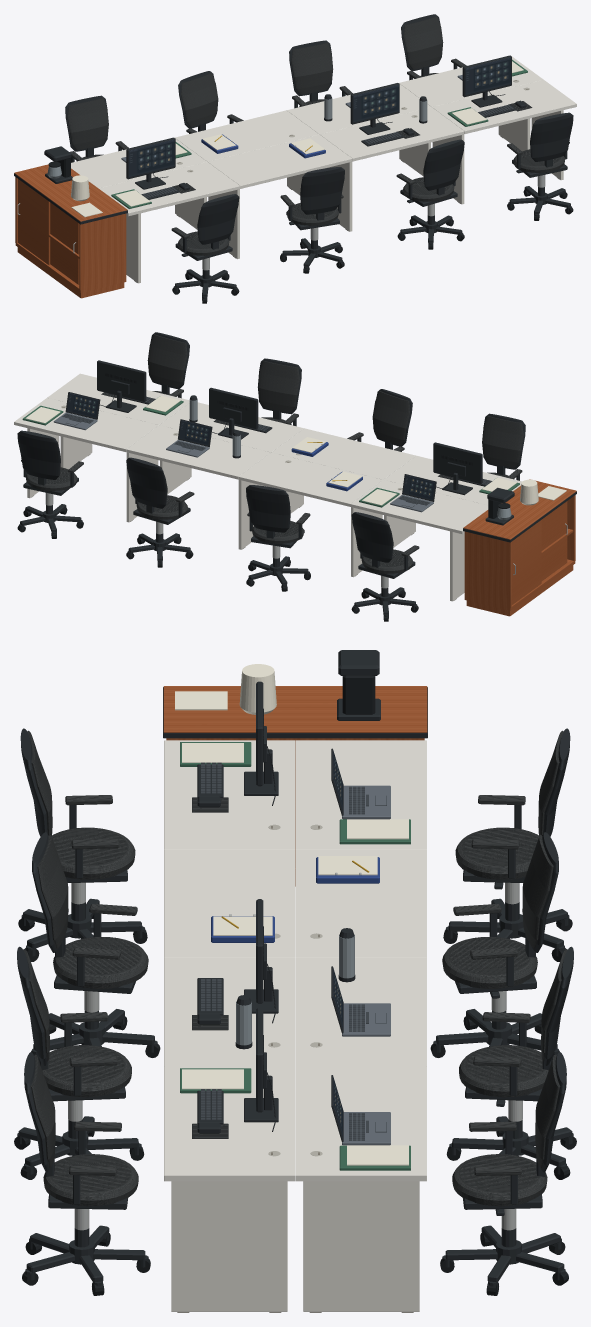
Rendered from desk_cluster_001.glb.
3 renders of one model, top to bottom at view 1: azimuth 30°, elevation 25°; view 2: azimuth 150°, elevation 25°; view 3: azimuth 270°, elevation 25°, orthographic. The views are drawn at different scales.
Parts seen in each view (by area): view 1: DESK_TOP, SIDEBOARD_BODY, DESK_FRAME, CHAIR_07, CHAIR_03, CHAIR_01, CHAIR_02, CHAIR_05, CHAIR_04, CHAIR_06, SIDEBOARD_DOOR_01, CHAIR_08 (+12 smaller); view 2: DESK_TOP, SIDEBOARD_BODY, DESK_FRAME, CHAIR_08, CHAIR_06, CHAIR_04, CHAIR_05, CHAIR_02, CHAIR_01, CHAIR_03, CHAIR_07, SIDEBOARD_DOOR_01 (+13 smaller); view 3: DESK_TOP, DESK_FRAME, CHAIR_06, CHAIR_03, SIDEBOARD_BODY, CHAIR_08, CHAIR_07, CHAIR_05, CHAIR_02, CHAIR_04, CHAIR_01, SIDEBOARD_COFFEE (+17 smaller).
Boxes of the visible parts, left/top/right/bottom form: DESK_TOP: left=71, top=56, right=576, bottom=216; SIDEBOARD_BODY: left=14, top=164, right=127, bottom=298; DESK_FRAME: left=126, top=110, right=563, bottom=283; CHAIR_07: left=280, top=167, right=344, bottom=273; CHAIR_03: left=507, top=112, right=573, bottom=220; CHAIR_01: left=171, top=194, right=239, bottom=303; CHAIR_02: left=396, top=139, right=464, bottom=249; CHAIR_05: left=289, top=40, right=352, bottom=108; CHAIR_04: left=65, top=95, right=128, bottom=162; CHAIR_06: left=401, top=14, right=466, bottom=80; SIDEBOARD_DOOR_01: left=17, top=179, right=50, bottom=264; CHAIR_08: left=178, top=71, right=243, bottom=133; DESK_TOP: left=14, top=373, right=521, bottom=534; SIDEBOARD_BODY: left=463, top=479, right=576, bottom=616; DESK_FRAME: left=27, top=428, right=464, bottom=601; CHAIR_08: left=246, top=485, right=310, bottom=591; CHAIR_06: left=17, top=430, right=83, bottom=538; CHAIR_04: left=351, top=512, right=419, bottom=621; CHAIR_05: left=126, top=457, right=194, bottom=567; CHAIR_02: left=257, top=358, right=301, bottom=426; CHAIR_01: left=482, top=413, right=525, bottom=480; CHAIR_03: left=147, top=332, right=189, bottom=398; CHAIR_07: left=347, top=389, right=412, bottom=451; SIDEBOARD_DOOR_01: left=511, top=520, right=541, bottom=605; DESK_TOP: left=164, top=740, right=426, bottom=1181; DESK_FRAME: left=171, top=1181, right=419, bottom=1312; CHAIR_06: left=440, top=1052, right=568, bottom=1295; CHAIR_03: left=22, top=1052, right=150, bottom=1295; SIDEBOARD_BODY: left=163, top=686, right=427, bottom=886; CHAIR_08: left=430, top=832, right=559, bottom=1058; CHAIR_07: left=31, top=832, right=160, bottom=1058; CHAIR_05: left=446, top=946, right=576, bottom=1179; CHAIR_02: left=14, top=946, right=144, bottom=1179; CHAIR_04: left=443, top=728, right=572, bottom=961; CHAIR_01: left=18, top=728, right=147, bottom=961; SIDEBOARD_COFFEE: left=175, top=650, right=380, bottom=720.
Size of the model in its own units: 5.21 by 1.16 by 2.57.
20 materials, 5 textured.
